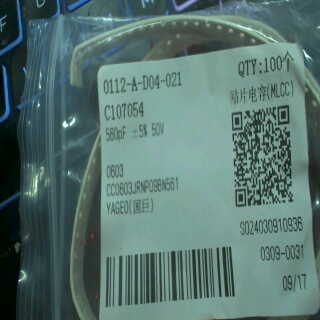560pF: (104, 124, 129, 143)
